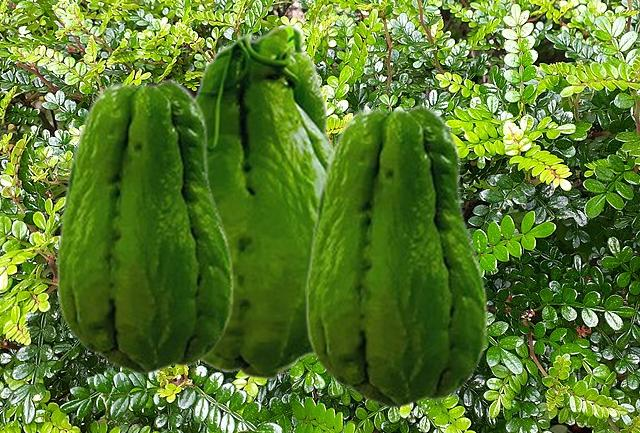sayote: (305, 103, 487, 408), (56, 78, 233, 374), (193, 23, 333, 380)
